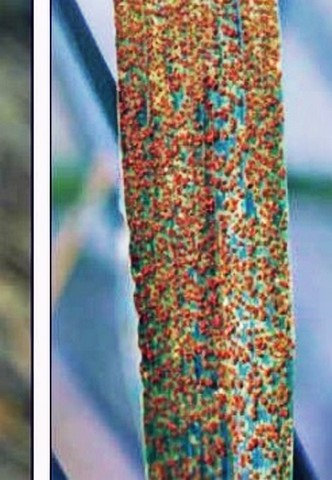Leaf Rust: (109, 6, 309, 480)
